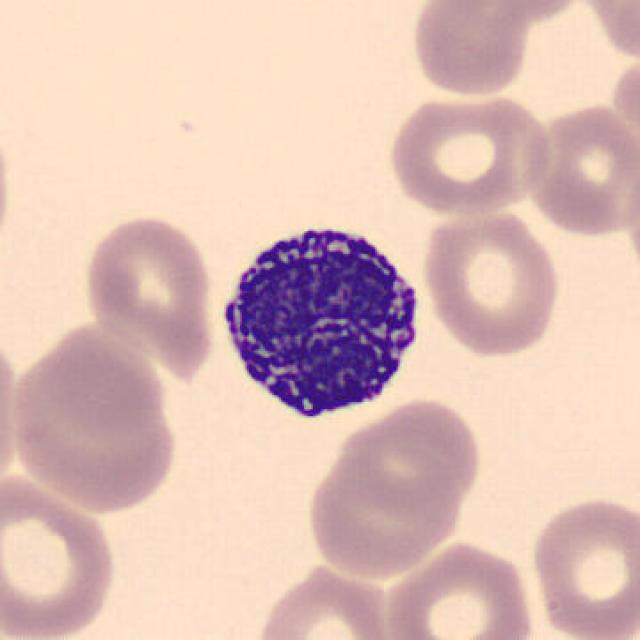Basophil: (210, 204, 434, 432)
RBC: (7, 329, 183, 516), (300, 420, 477, 580), (80, 210, 220, 384), (418, 201, 564, 361), (382, 88, 556, 219), (0, 467, 121, 640), (327, 395, 485, 518), (526, 490, 638, 638), (521, 99, 638, 240), (380, 537, 536, 640), (407, 0, 531, 100), (250, 560, 398, 640), (0, 317, 23, 499), (582, 0, 638, 65), (455, 0, 596, 23), (0, 111, 16, 280)
